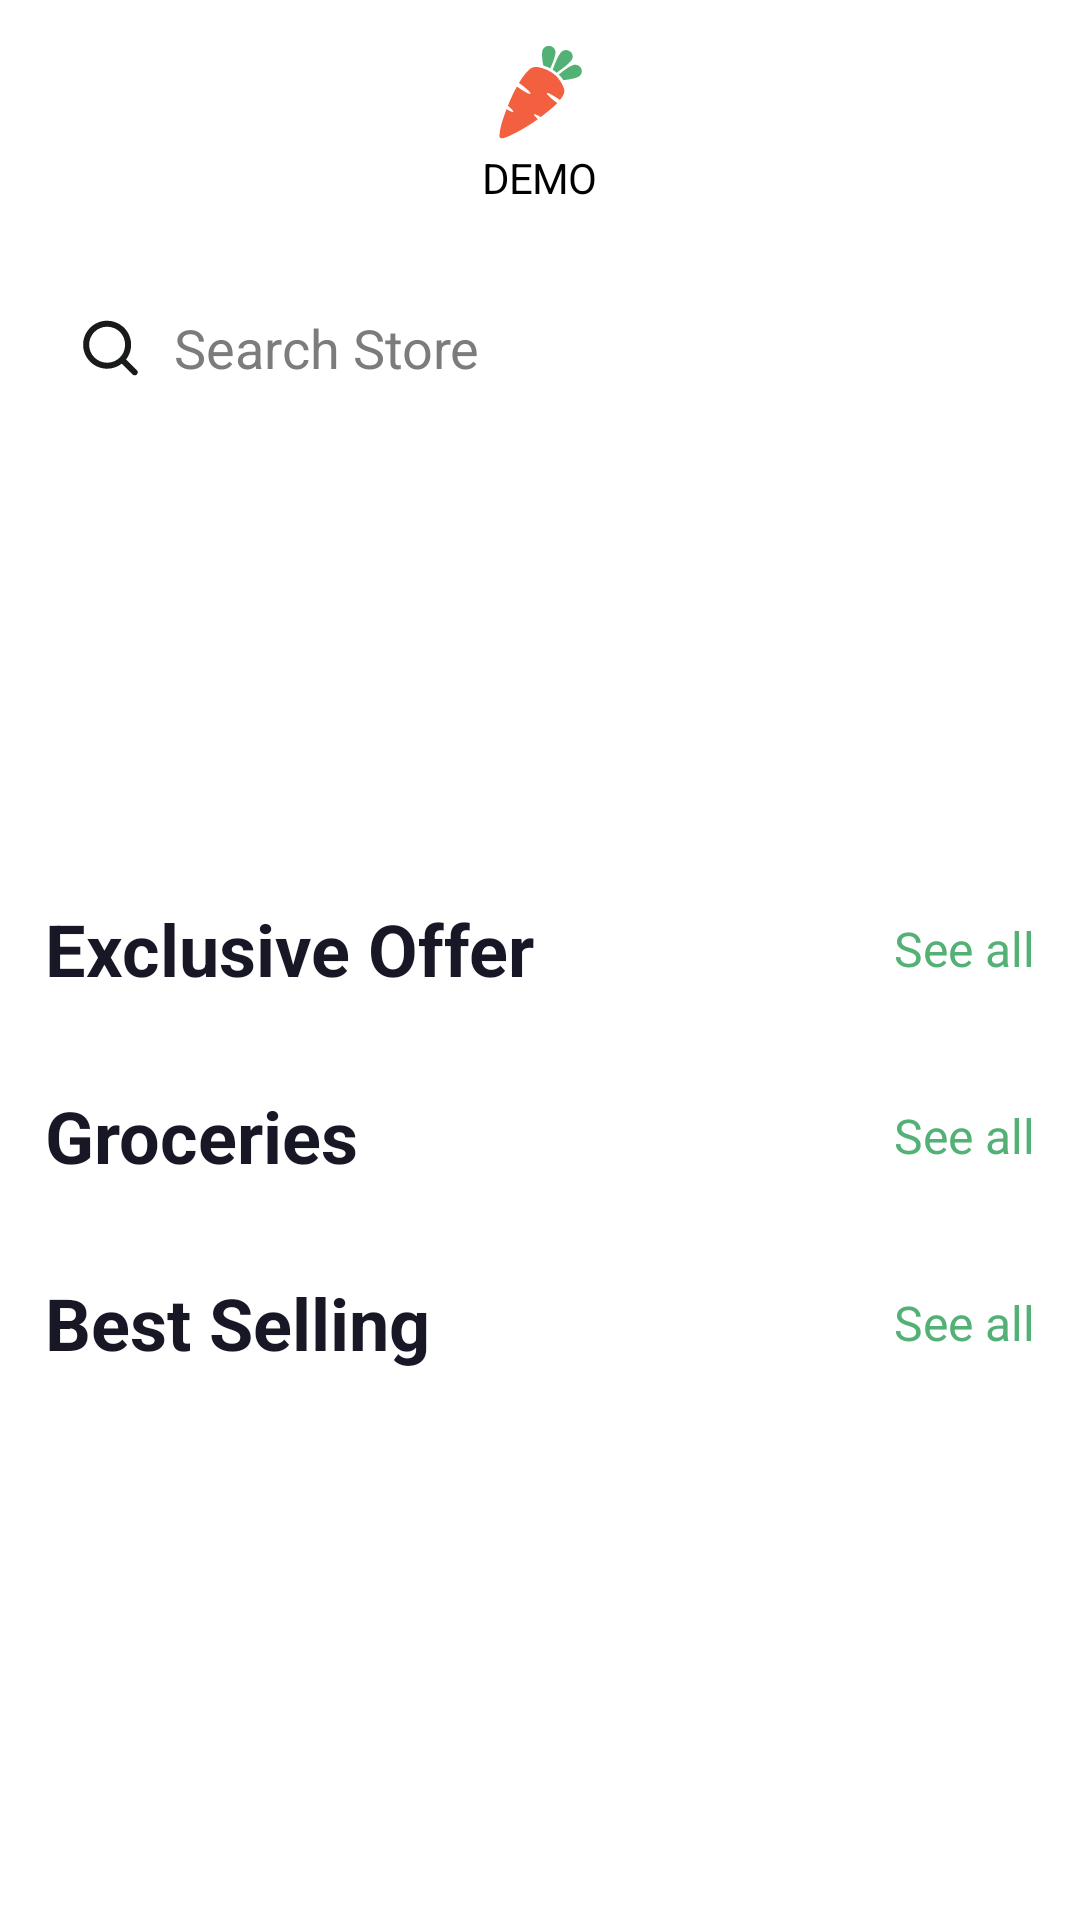

Icons on this 1080×1920 Android screen, each with the point to tap as point (x, y):
carrot: point (540, 92)
